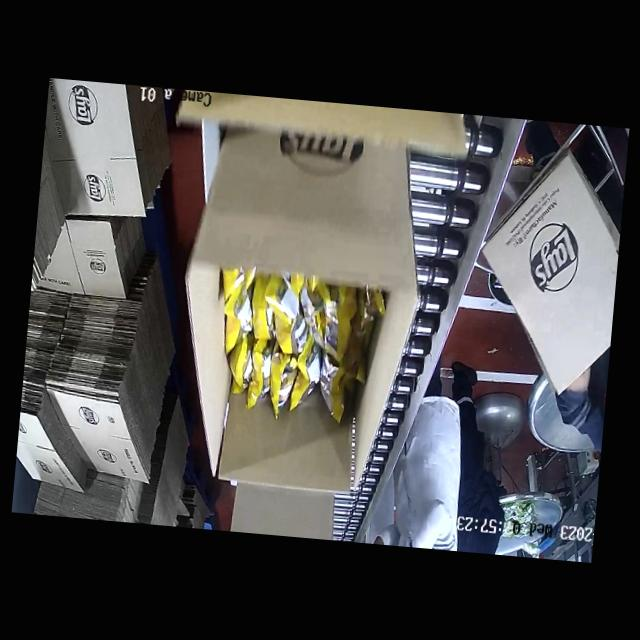salted: (198, 253, 365, 432)
